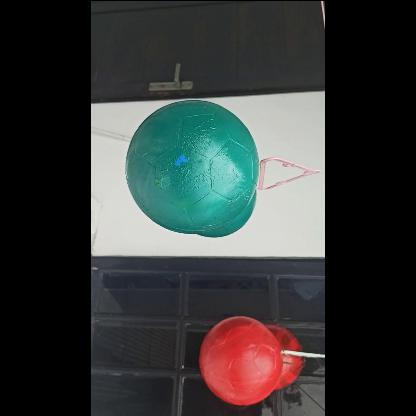red_ball: (199, 317, 285, 403)
